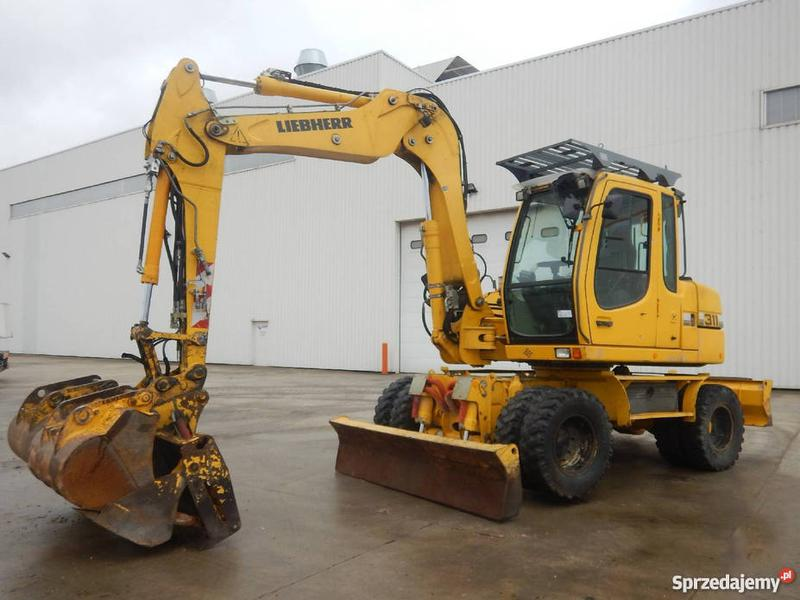shovel: (5, 55, 781, 550)
